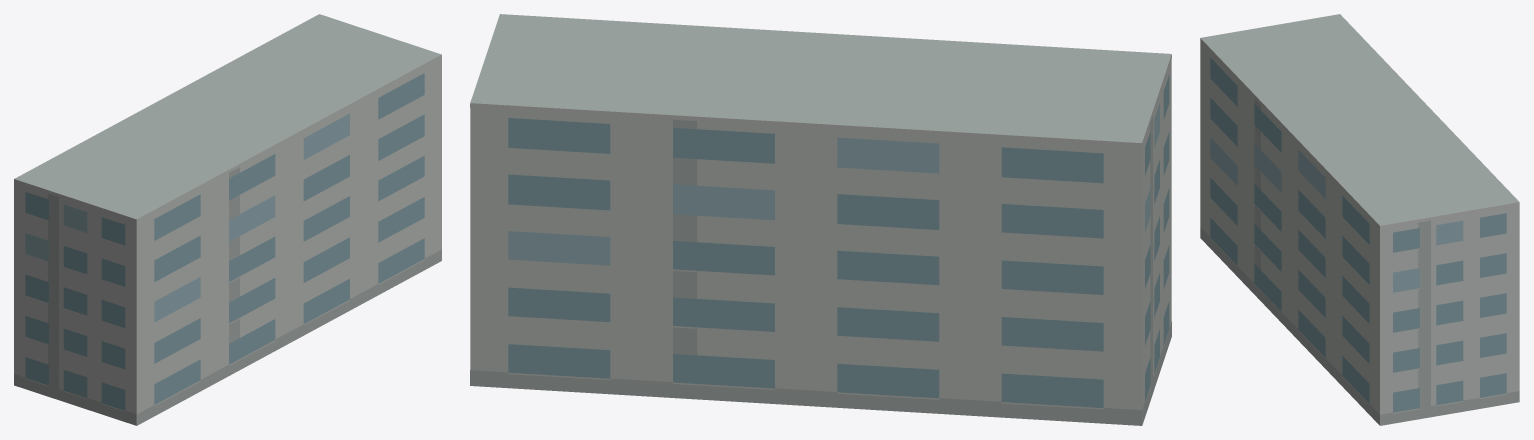
File: residential-7b51e2ae-6d5f-4131-8a7f-bfc1b7b1ee6b.glb
3 renders of one model, left to right at view 1: azimuth 30°, elevation 25°; view 2: azimuth 150°, elevation 25°; view 3: azimuth 270°, elevation 25°, orthographic. The views are drawn at different scales.
Visible parts, largest first — view 1: residential-7b51e2ae-6d5f-4131-8a7f-bfc1b7b1ee6b.tmp; view 2: residential-7b51e2ae-6d5f-4131-8a7f-bfc1b7b1ee6b.tmp; view 3: residential-7b51e2ae-6d5f-4131-8a7f-bfc1b7b1ee6b.tmp.
Part boxes in pixels (x1,y1,x2,y2): residential-7b51e2ae-6d5f-4131-8a7f-bfc1b7b1ee6b.tmp: [14, 14, 441, 425]; residential-7b51e2ae-6d5f-4131-8a7f-bfc1b7b1ee6b.tmp: [470, 14, 1171, 425]; residential-7b51e2ae-6d5f-4131-8a7f-bfc1b7b1ee6b.tmp: [1200, 14, 1519, 425].
Size of the model in its own units: 34.67 by 15.25 by 22.09.
